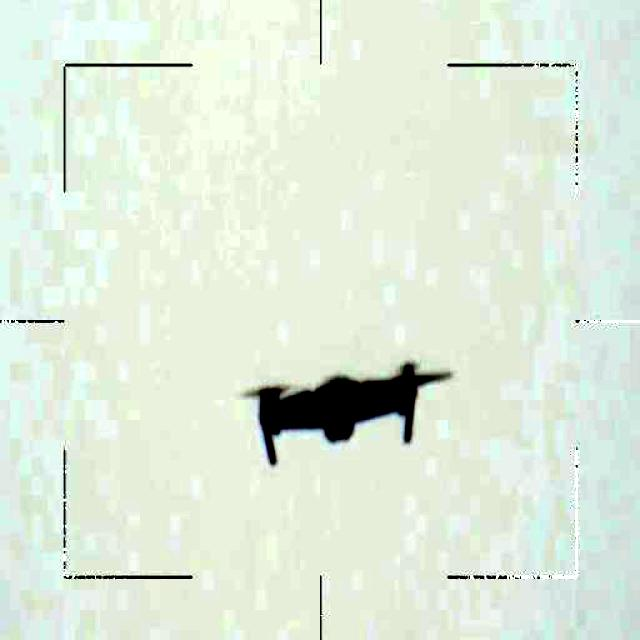bird: (218, 352, 460, 469)
